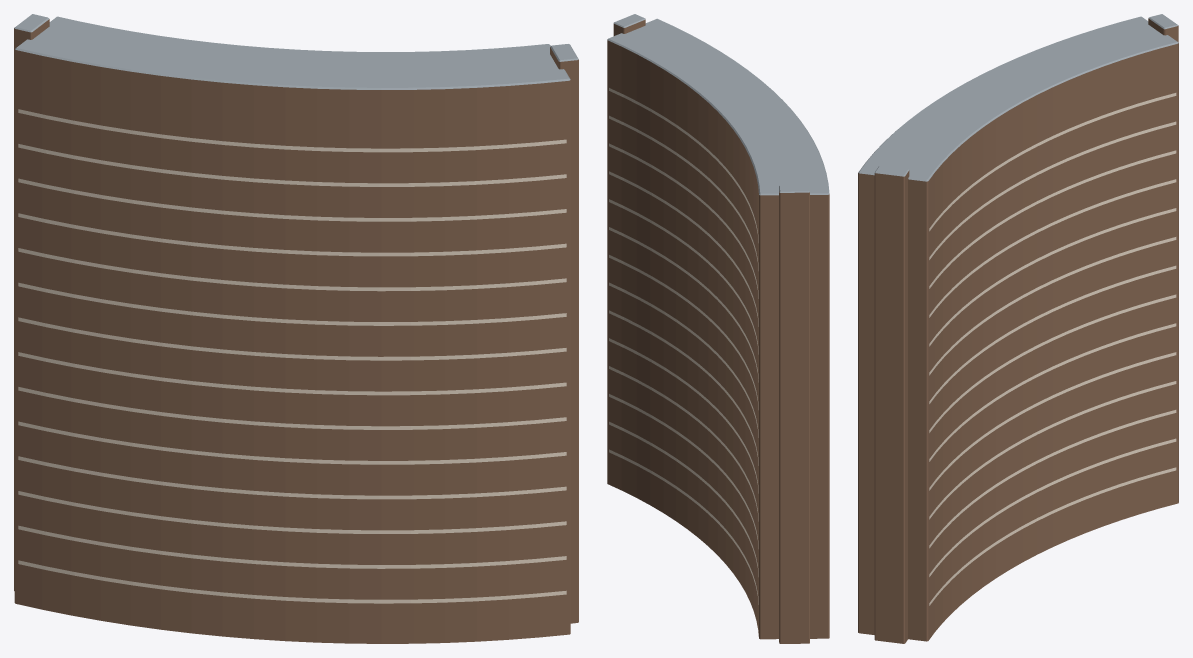
The picture shows the model from 3 angles, left to right: view 1: azimuth 30°, elevation 25°; view 2: azimuth 150°, elevation 25°; view 3: azimuth 270°, elevation 25°; orthographic projection. The views are drawn at different scales.
Parts seen in each view (by area): view 1: encore-las-vegas; view 2: encore-las-vegas; view 3: encore-las-vegas.
Part boxes in pixels (x1=…): encore-las-vegas: x1=14, y1=14, x2=578, y2=643; encore-las-vegas: x1=607, y1=14, x2=829, y2=643; encore-las-vegas: x1=858, y1=14, x2=1178, y2=643.
Size of the model in its own units: 149 by 195 by 121.
